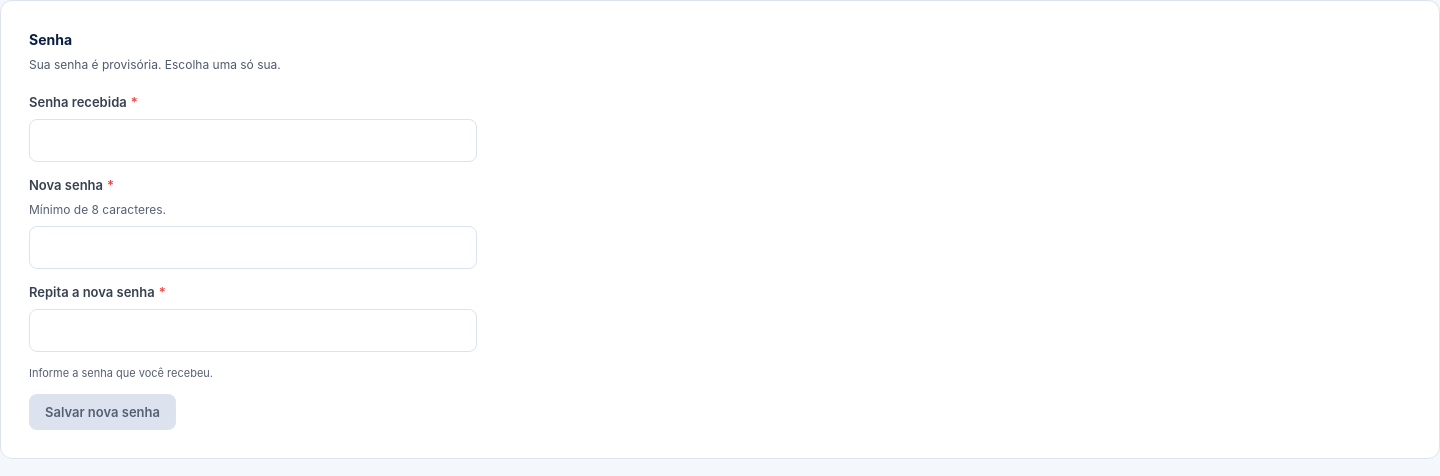
Scenario: troca da própria senha › oito caracteres bastam, e sete não
The image size is (1440, 476).
Type "sorteada-16-chars" into the password field labelled "Senha recebida*" at (253, 140), box [29,119,477,162]
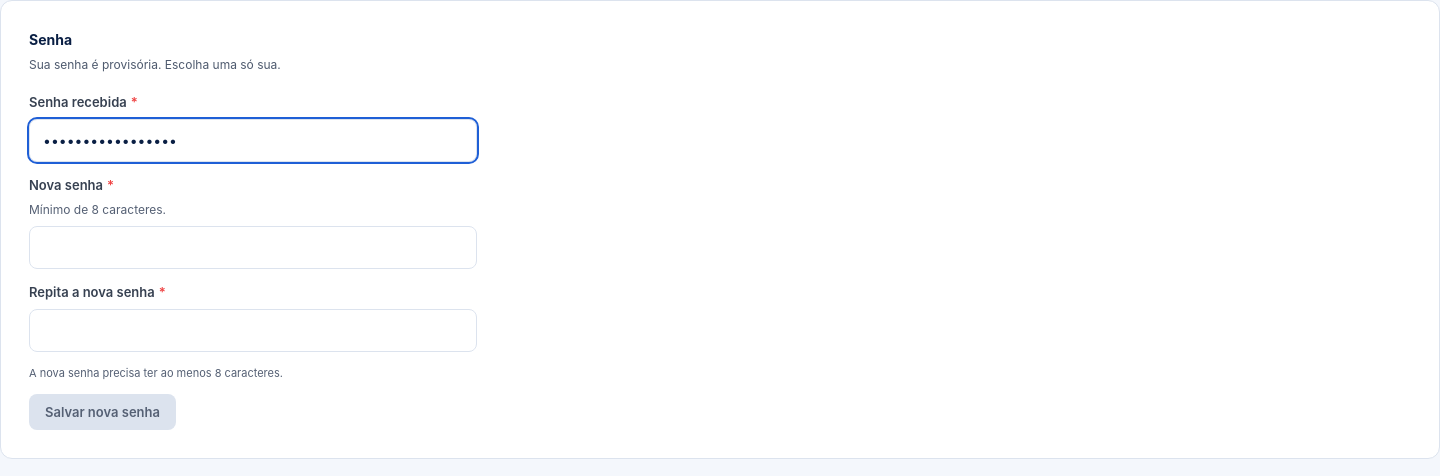
Type "Curta12" into the password field labelled "Nova senha*" at (253, 248), box [29,226,477,269]
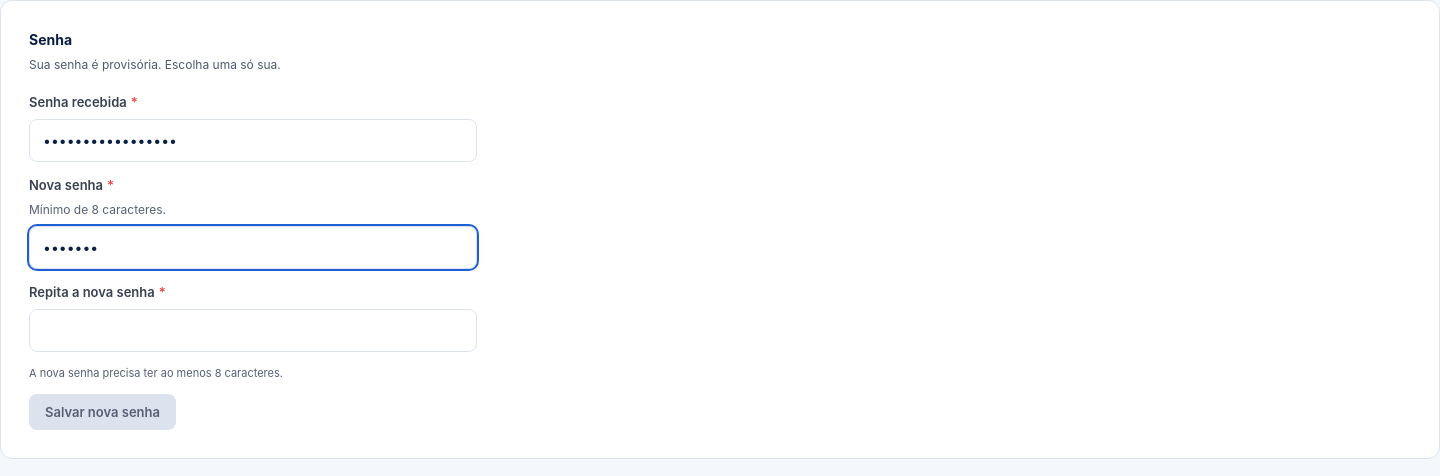
Type "Curta12" into the password field labelled "Repita a nova senha*" at (253, 330), box [29,309,477,352]
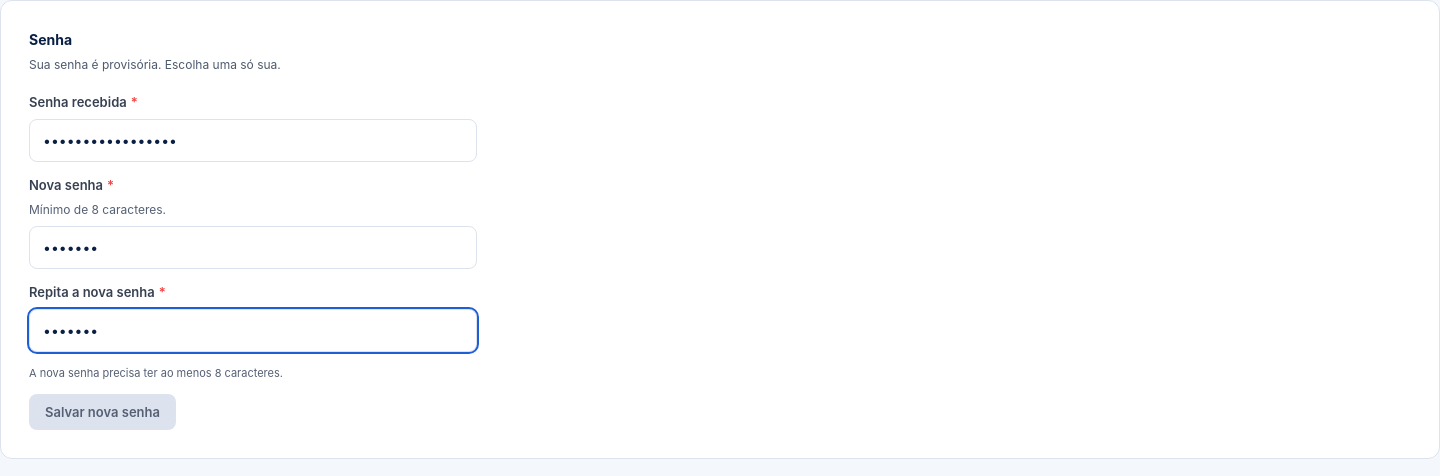
Check: the button "Salvar nova senha" is disabled, box [29,394,176,430]
Check: the text "A nova senha precisa ter ao menos 8 caracteres." is shown, box [29,366,283,380]
Type "3" into the password field labelled "Nova senha*" at (253, 248), box [29,226,477,269]
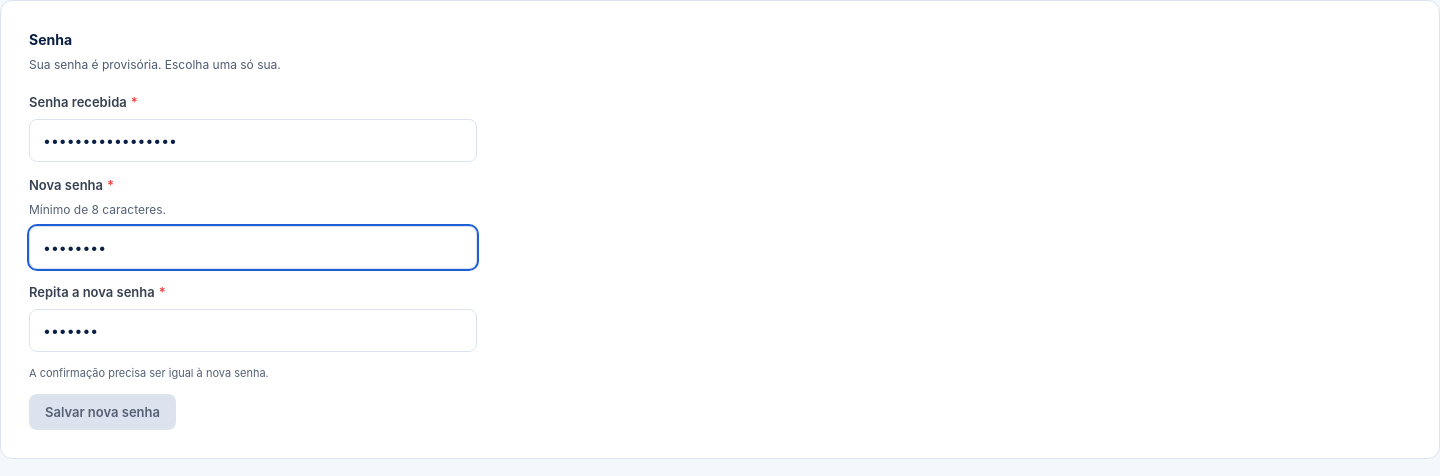
Type "3" into the password field labelled "Repita a nova senha*" at (253, 330), box [29,309,477,352]
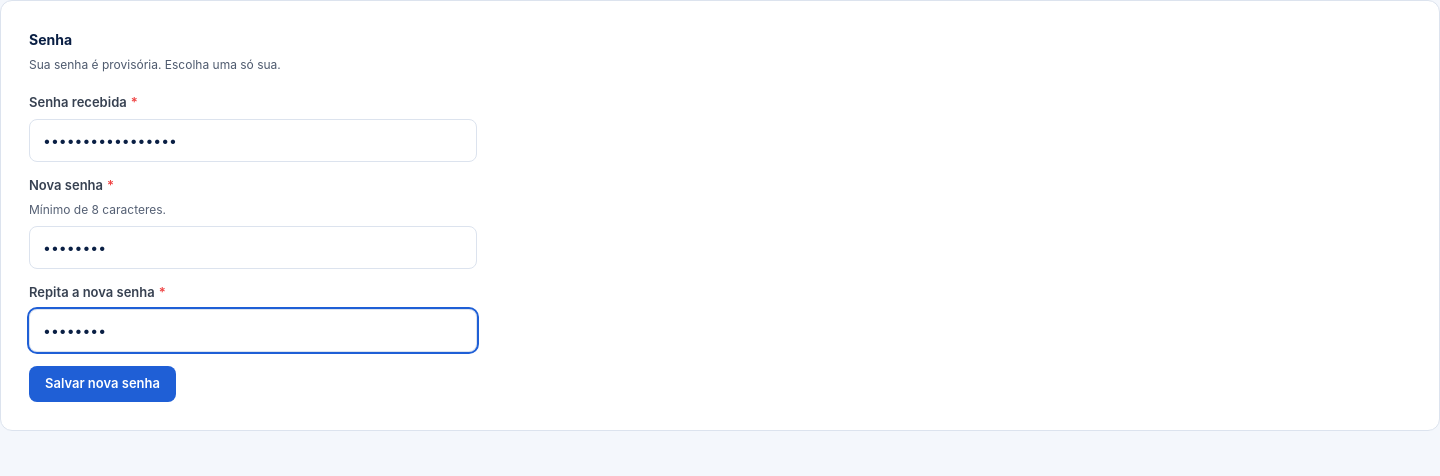
Check: the button "Salvar nova senha" is enabled, box [29,366,176,402]
